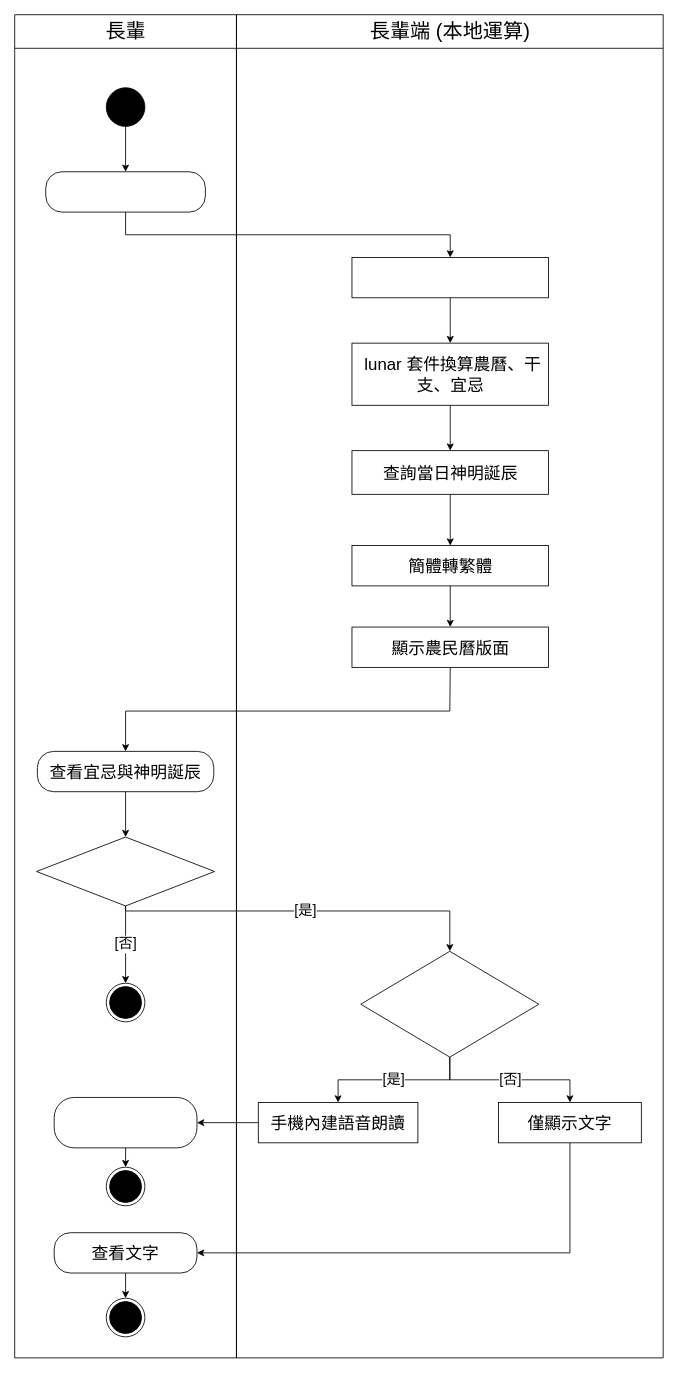
Some shapes in this 678 by 1373 pixel diagram are drawn without their labels. The centre of each missing label's shape, as x and y in pixels:
"手機支援 語音朗讀？" belongs at pixel 449 1003.
"聽取語音播報 與查看文字" belongs at pixel 125 1122.
"要語音播報？" belongs at pixel 125 871.
"開啟農民曆工具" belongs at pixel 450 277.
"點選首頁日期卡片" belongs at pixel 125 191.
